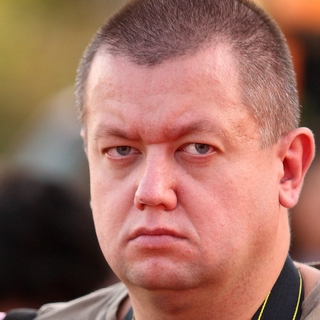eye: (173, 136, 225, 163), (101, 142, 145, 161)
